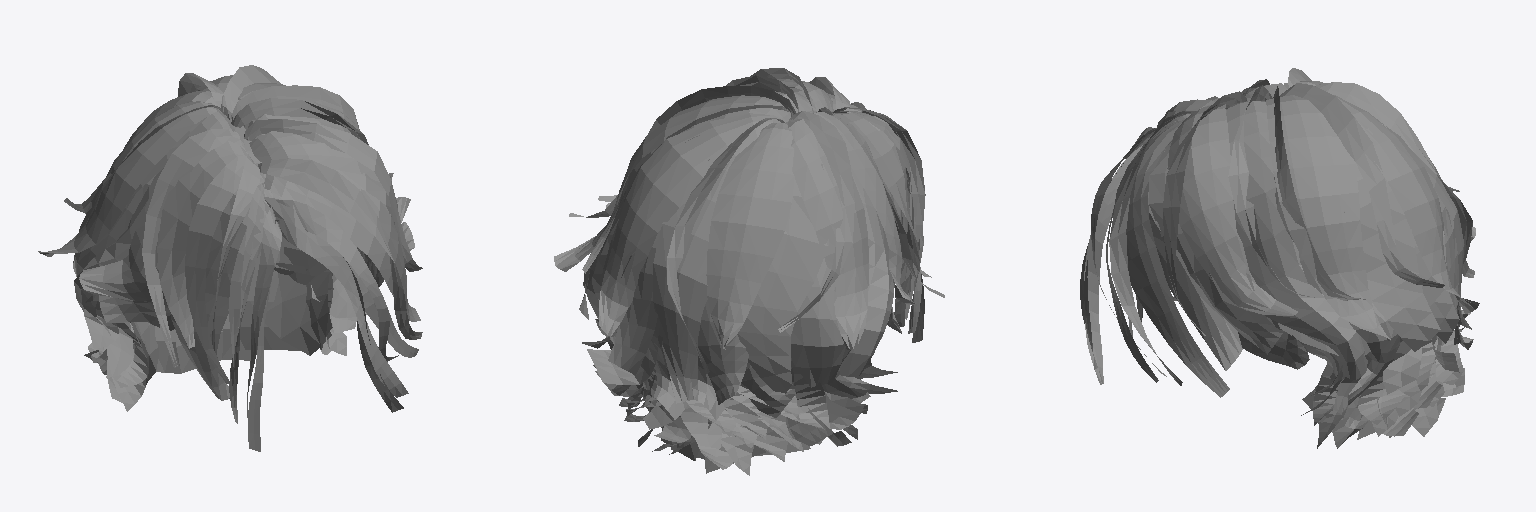
File: c_05_mg__mess.obj
The picture shows the model from 3 angles: view 1: azimuth 30°, elevation 25°; view 2: azimuth 150°, elevation 25°; view 3: azimuth 270°, elevation 25°; orthographic projection.
Visible parts, largest first — view 1: grp1; view 2: grp1; view 3: grp1.
Part boxes in pixels (left/top/right/bottom): grp1: left=38, top=65, right=422, bottom=451; grp1: left=554, top=68, right=944, bottom=475; grp1: left=1080, top=68, right=1479, bottom=448.
Size of the model in its own units: 0.2383 by 0.2347 by 0.2551.